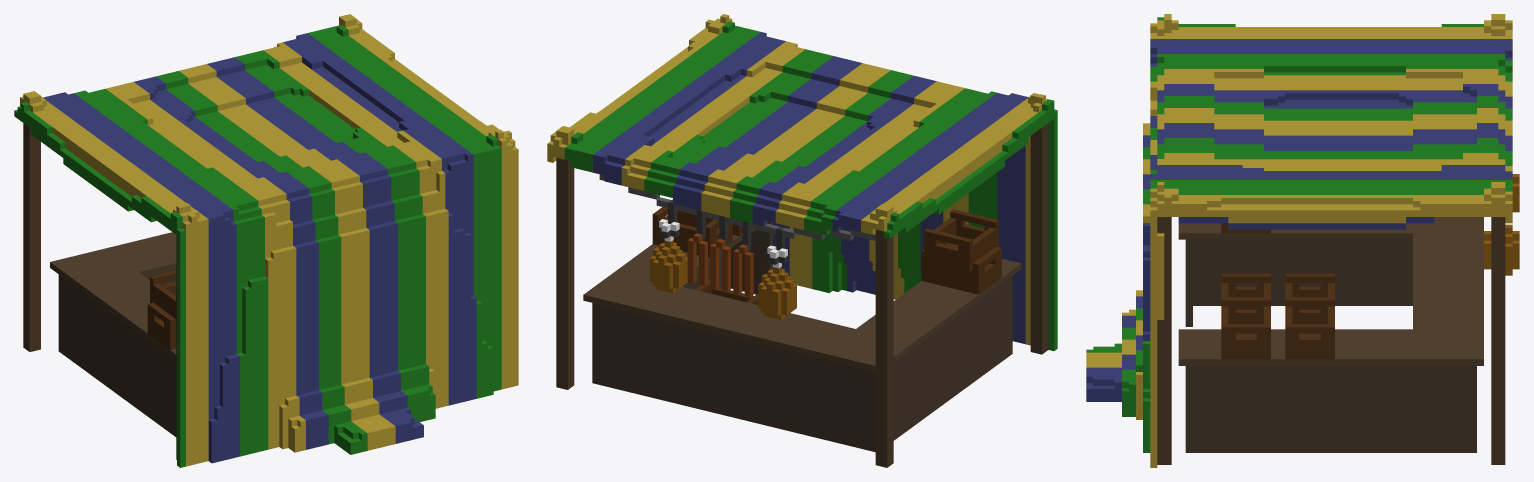
File: Stand 3.obj
3 views of the same model, side by side, from view 1: azimuth 30°, elevation 25°; view 2: azimuth 150°, elevation 25°; view 3: azimuth 270°, elevation 25° (orthographic). The views are drawn at different scales.
Bounding box in the file's own units: 6 × 4.3 × 6.1.
Materials: 1 (1 with a texture image).
